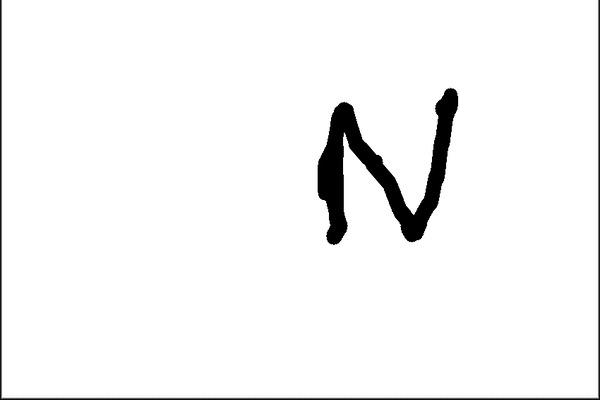N: (309, 84, 464, 249)
